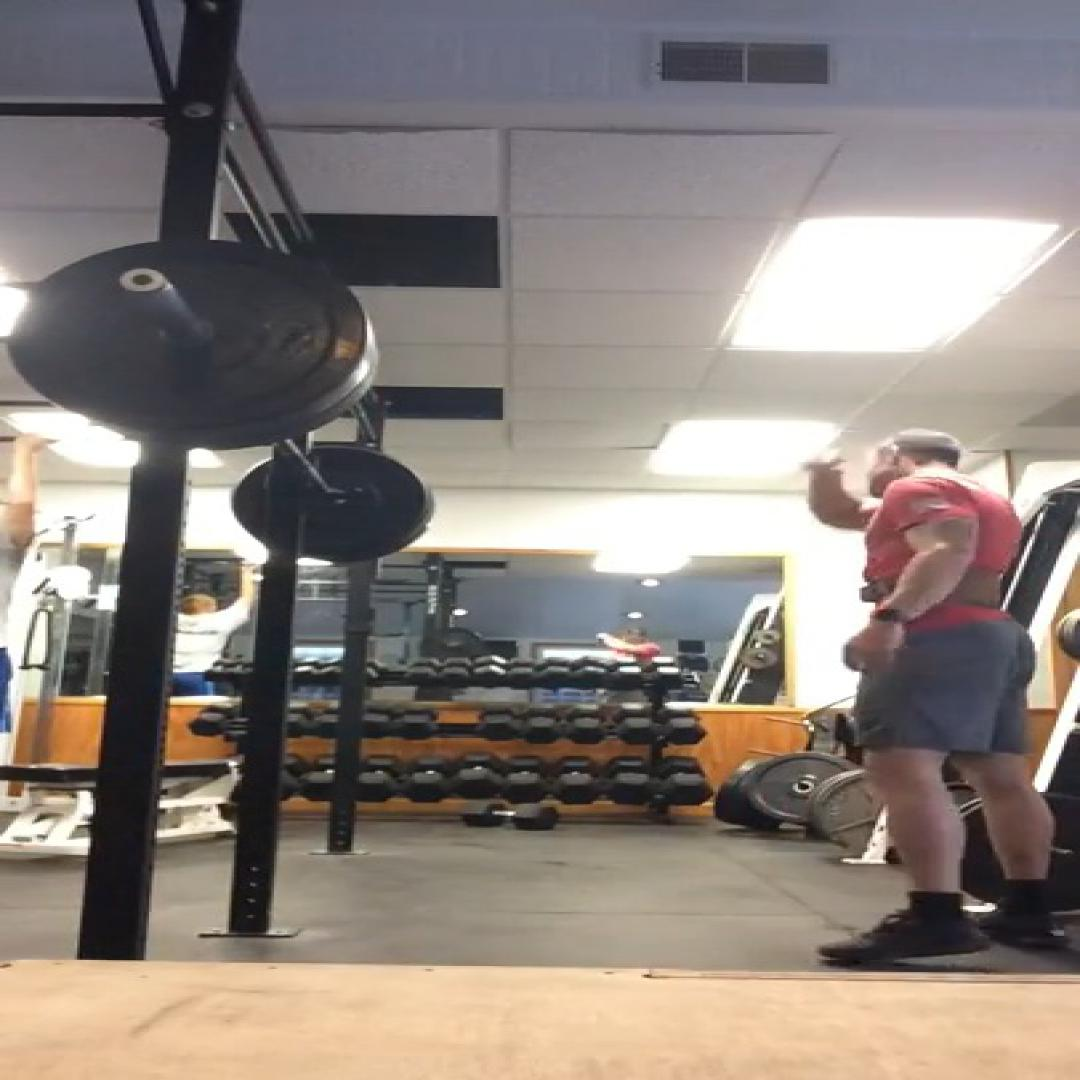Bar: (119, 267, 168, 294)
Barbell: (11, 242, 367, 425)
